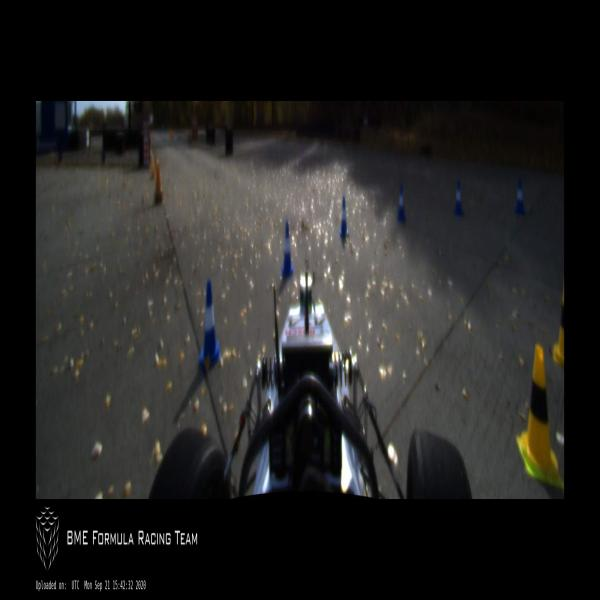blue_cone: (199, 280, 220, 375), (281, 222, 293, 278), (514, 177, 526, 215), (454, 180, 464, 215), (396, 187, 406, 218), (340, 198, 348, 235)
yellow_cone: (516, 344, 564, 488), (553, 278, 564, 366)
